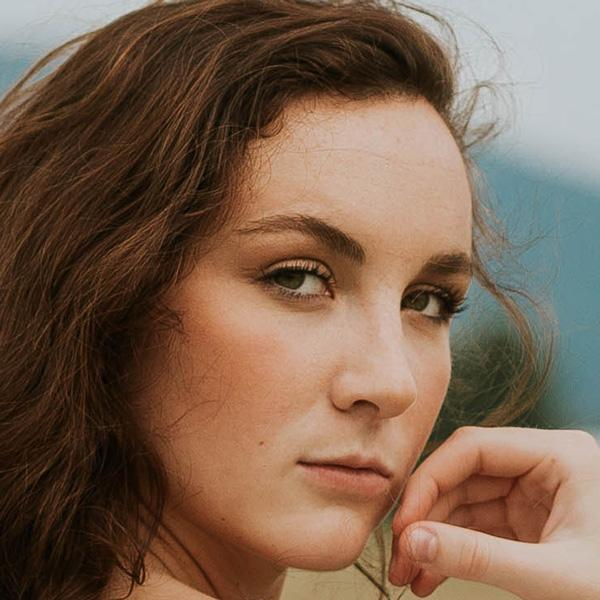Eyes: (244, 243, 340, 314), (395, 269, 457, 336)
